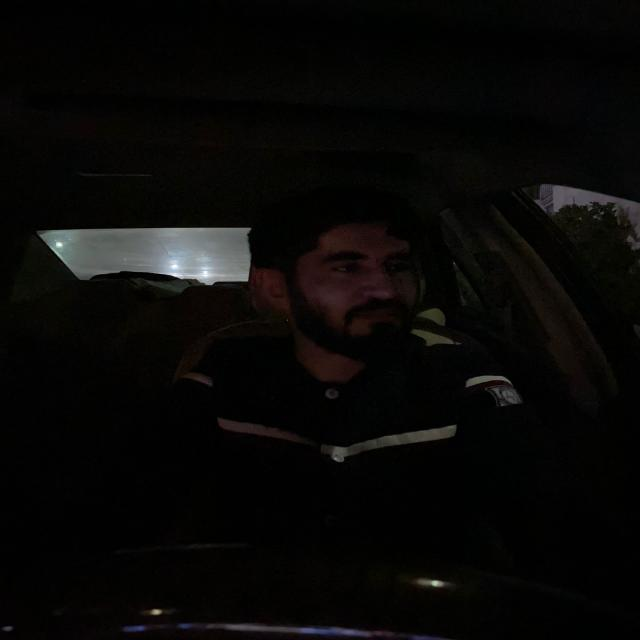person: (267, 194, 430, 349)
